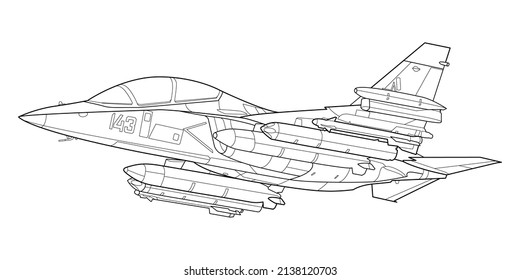airplane: (16, 41, 503, 220)
